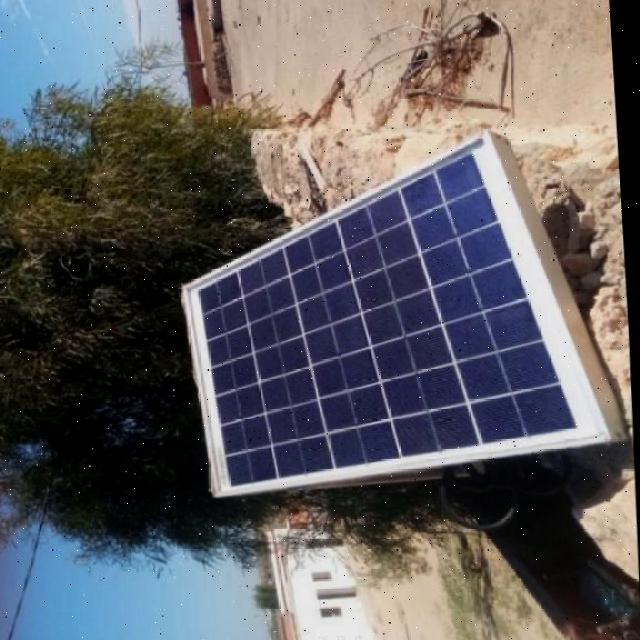Normal Solar Panel: (177, 130, 620, 506)
